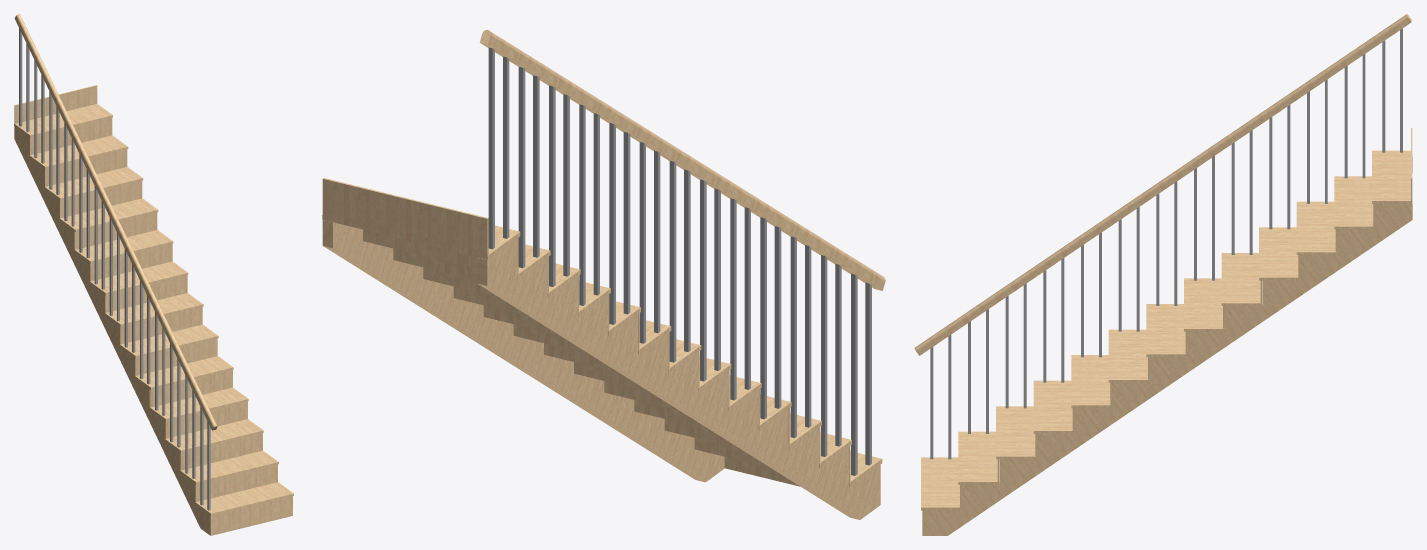
The model's file is stair_straight_open_stringer.obj.
3 views of the same model, side by side, from view 1: azimuth 30°, elevation 25°; view 2: azimuth 150°, elevation 25°; view 3: azimuth 270°, elevation 25° (orthographic). The views are drawn at different scales.
Parts seen in each view (by area): view 1: 28_28, 2_2, 27_27.001, 1_1, 2_2.001; view 2: 27_27.001, 1_1, 28_28, 29_29, 2_2.001, 2_2; view 3: 2_2, 29_29, 27_27.001, 2_2.001, 28_28.
Part boxes in pixels (x1,y1,x2,y2): 28_28: [14, 85, 292, 535]; 2_2: [14, 103, 293, 515]; 27_27.001: [19, 28, 210, 510]; 1_1: [14, 126, 209, 534]; 2_2.001: [14, 14, 217, 430]; 27_27.001: [488, 47, 871, 475]; 1_1: [477, 238, 879, 519]; 28_28: [322, 178, 880, 505]; 29_29: [322, 220, 724, 482]; 2_2.001: [479, 30, 885, 290]; 2_2: [322, 215, 882, 486]; 2_2: [921, 150, 1412, 510]; 29_29: [924, 201, 1412, 535]; 27_27.001: [930, 28, 1402, 459]; 2_2.001: [914, 14, 1411, 355]; 28_28: [922, 128, 1412, 535].
Bounding box in the file's own units: 80 × 350 × 334.
